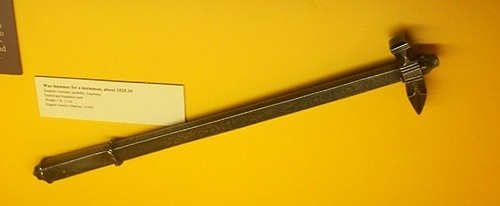hammer: (33, 27, 443, 188)
